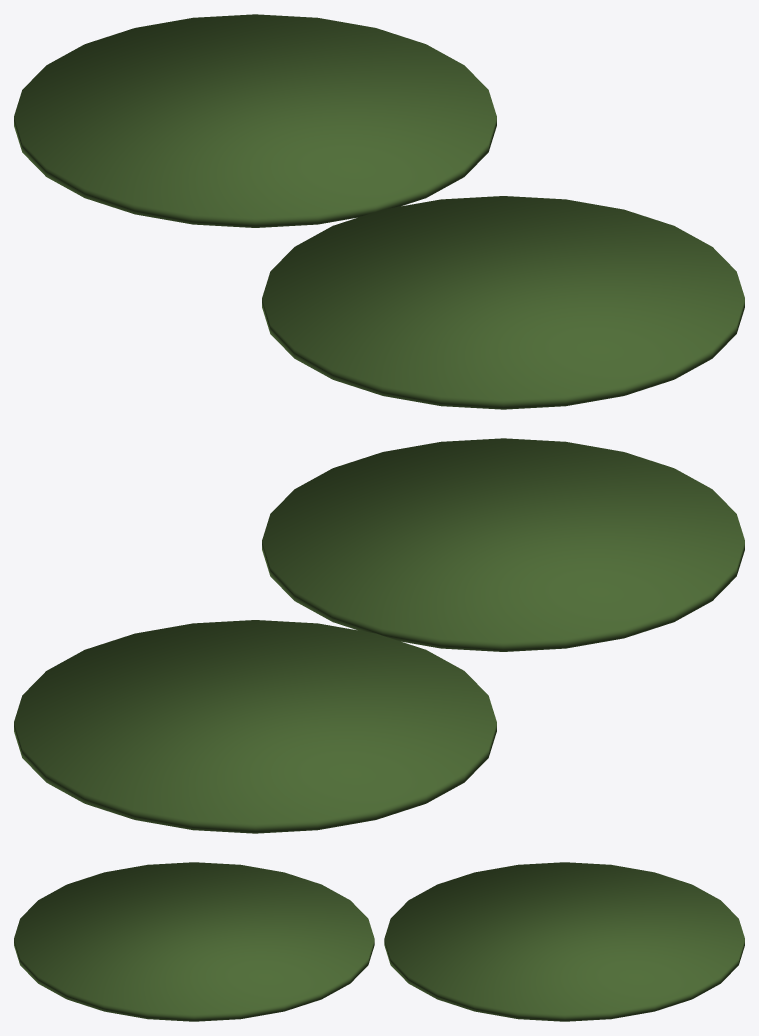
The model's file is Rugs.fbx.
The picture shows the model from 3 angles, top to bottom: view 1: azimuth 30°, elevation 25°; view 2: azimuth 150°, elevation 25°; view 3: azimuth 270°, elevation 25°; orthographic projection. The views are drawn at different scales.
Visible parts, largest first — view 1: Rug1, Rug2; view 2: Rug2, Rug1; view 3: Rug2, Rug1.
Part boxes in pixels (x1=…): Rug1: x1=262, y1=196, x2=744, y2=409; Rug2: x1=14, y1=14, x2=496, y2=227; Rug2: x1=14, y1=620, x2=496, y2=833; Rug1: x1=262, y1=438, x2=744, y2=651; Rug2: x1=384, y1=862, x2=744, y2=1021; Rug1: x1=14, y1=862, x2=374, y2=1021.
Bounding box in the file's own units: 3527 × 77.74 × 7150.
